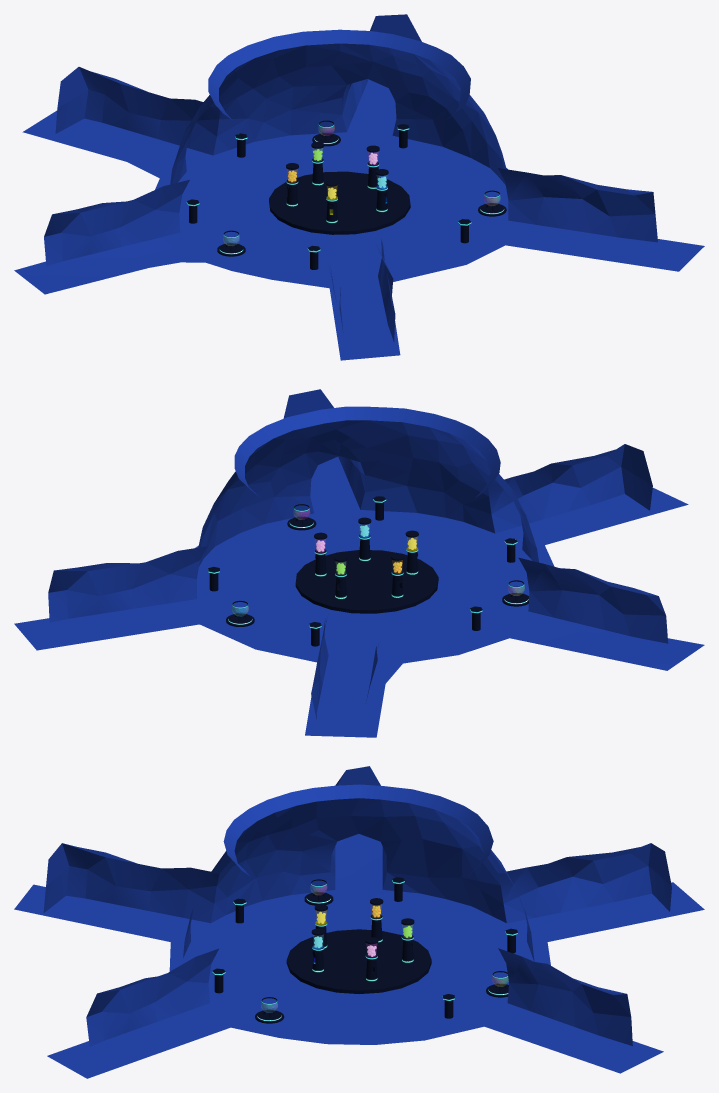
File: room.glb
The picture shows the model from 3 angles, top to bottom: view 1: azimuth 30°, elevation 25°; view 2: azimuth 150°, elevation 25°; view 3: azimuth 270°, elevation 25°; orthographic projection.
Parts seen in each view (by area): view 1: group4 mainRoomFloor, group4 mainRoom, group4 central_pedestal; view 2: group4 mainRoomFloor, group4 mainRoom, group4 central_pedestal; view 3: group4 mainRoom, group4 mainRoomFloor, group4 central_pedestal.
Boxes of the visible parts, bbox=[...] form: group4 mainRoomFloor: bbox=[14, 79, 704, 360]; group4 mainRoom: bbox=[44, 14, 657, 341]; group4 central_pedestal: bbox=[269, 171, 410, 234]; group4 mainRoomFloor: bbox=[14, 456, 704, 737]; group4 mainRoom: bbox=[48, 389, 668, 719]; group4 central_pedestal: bbox=[295, 550, 438, 613]; group4 mainRoom: bbox=[43, 766, 671, 1046]; group4 mainRoomFloor: bbox=[14, 834, 704, 1078]; group4 central_pedestal: bbox=[286, 929, 431, 993].
Bounding box in the file's own units: 27.02 × 5.73 × 29.01.
Materials: 5 (5 with a texture image).
